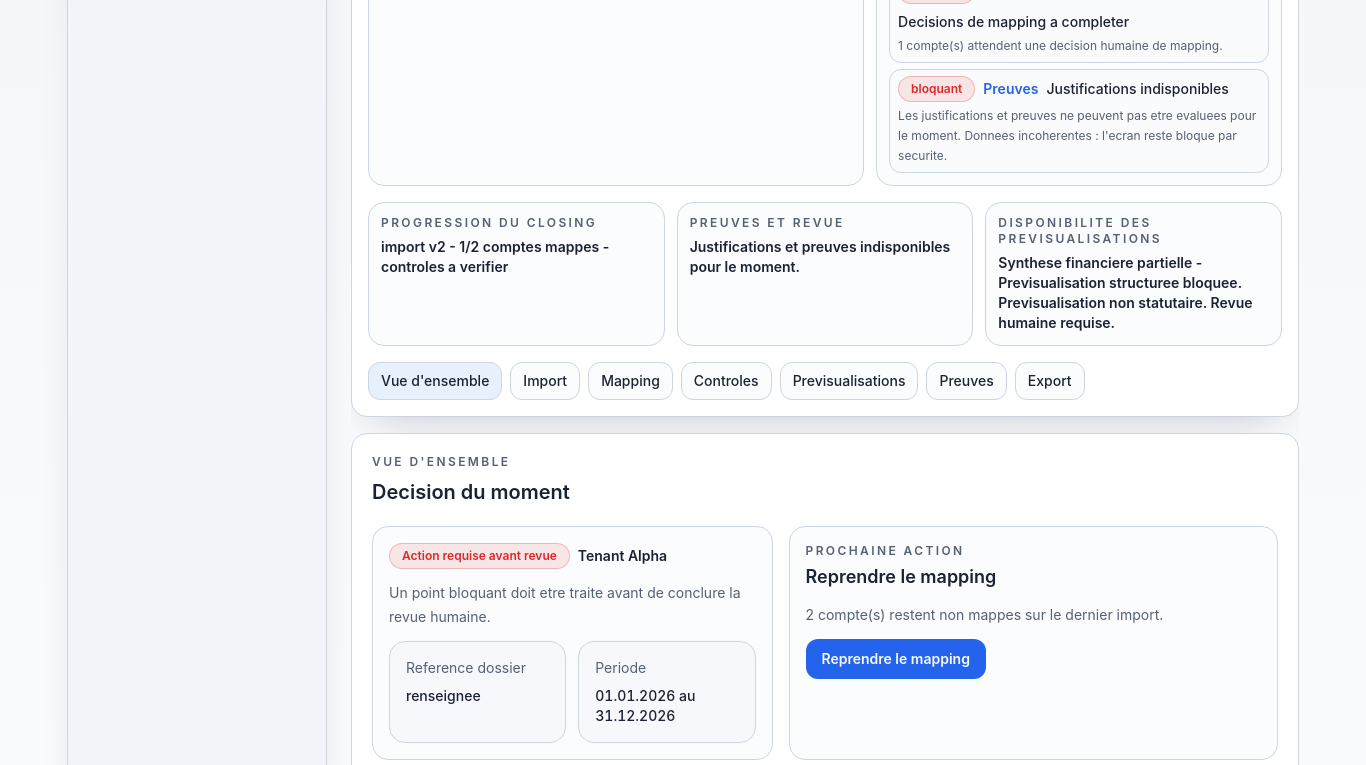
Test case: router import balance › shows aucun fichier selectionne by default and never posts without a selected file
The image size is (1366, 765).
(page scrolled)
What coordinates should you click on to do the following:
click the tab "Import"
I would click on:
 (545, 381)
Its box is [510,362,580,400].
(page scrolled)
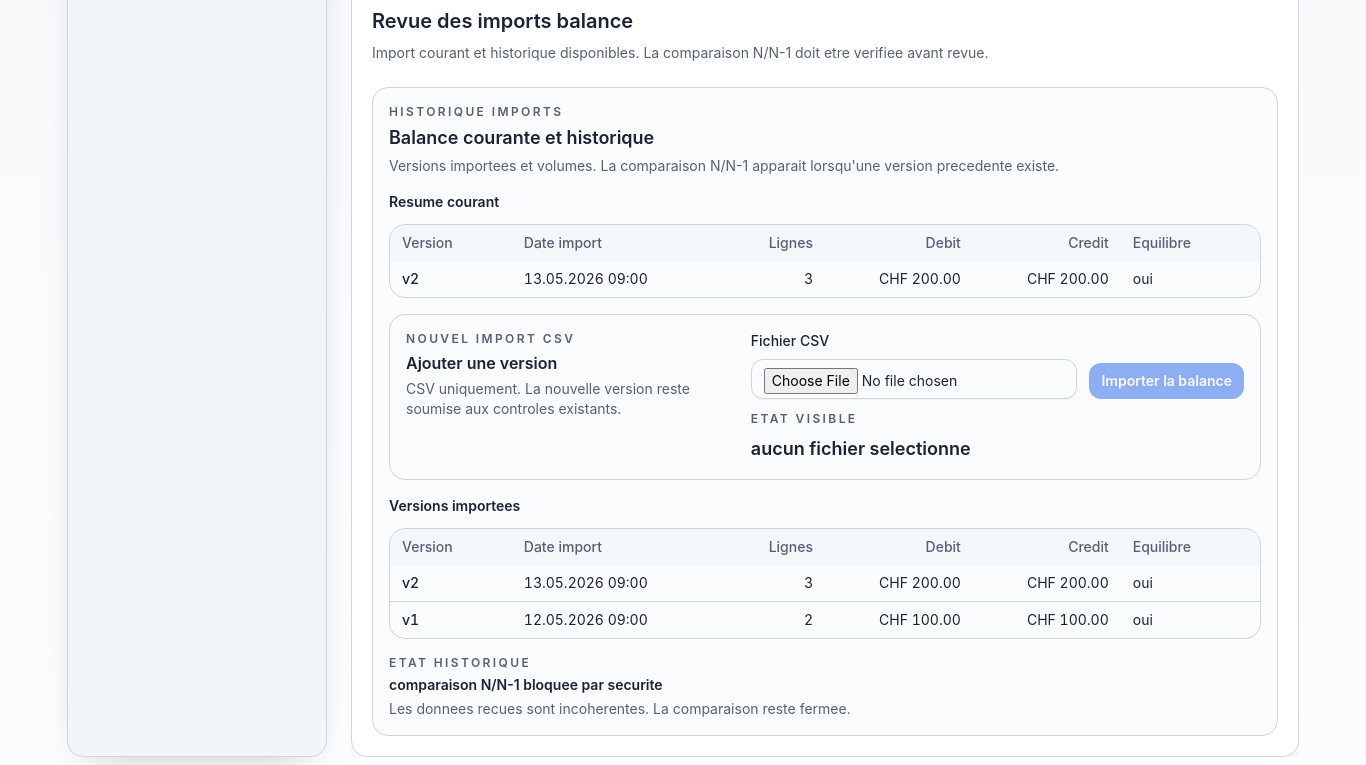
Result: the heading "Revue des imports balance" is shown at [372,9,633,33]
Result: the text "Nouvel import CSV" is shown at [406,331,575,346]
Result: the text "aucun fichier selectionne" is shown at [751,438,971,459]
